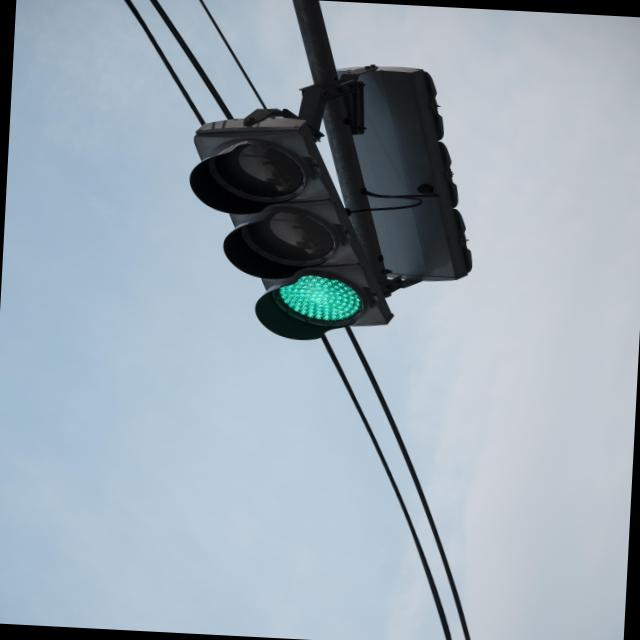green-lights: (255, 262, 372, 354)
